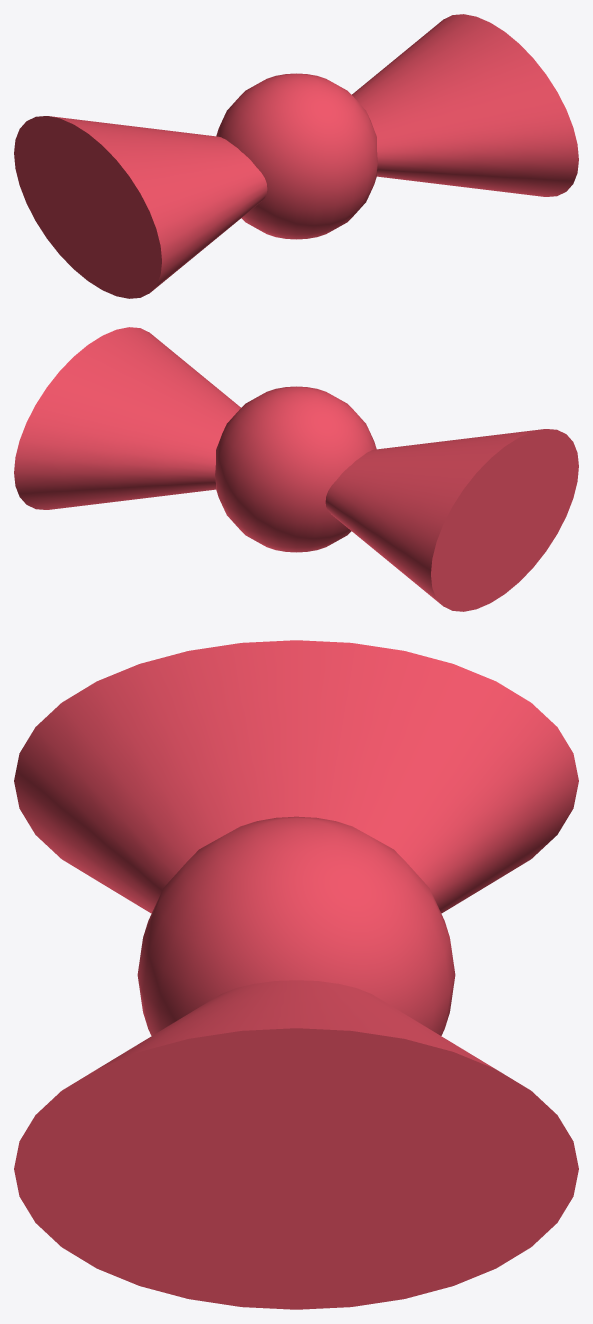
Rendered from ribbon_tie.fbx.
3 views of the same model, one above another, from view 1: azimuth 30°, elevation 25°; view 2: azimuth 150°, elevation 25°; view 3: azimuth 270°, elevation 25° (orthographic). The views are drawn at different scales.
Visible parts, largest first — view 1: Cone011, Cone012, Sphere051; view 2: Cone011, Cone012, Sphere051; view 3: Cone012, Cone011, Sphere051.
Part boxes in pixels (left/top/right/bottom): Cone011: left=14, top=116, right=267, bottom=298; Cone012: left=352, top=14, right=578, bottom=196; Sphere051: left=216, top=73, right=377, bottom=239; Cone011: left=325, top=429, right=578, bottom=611; Cone012: left=14, top=327, right=240, bottom=509; Sphere051: left=215, top=386, right=376, bottom=552; Cone012: left=14, top=980, right=578, bottom=1309; Cone011: left=14, top=640, right=578, bottom=913; Sphere051: left=137, top=816, right=455, bottom=1035.
Size of the model in its own units: 5.2 by 1.8 by 3.2.
